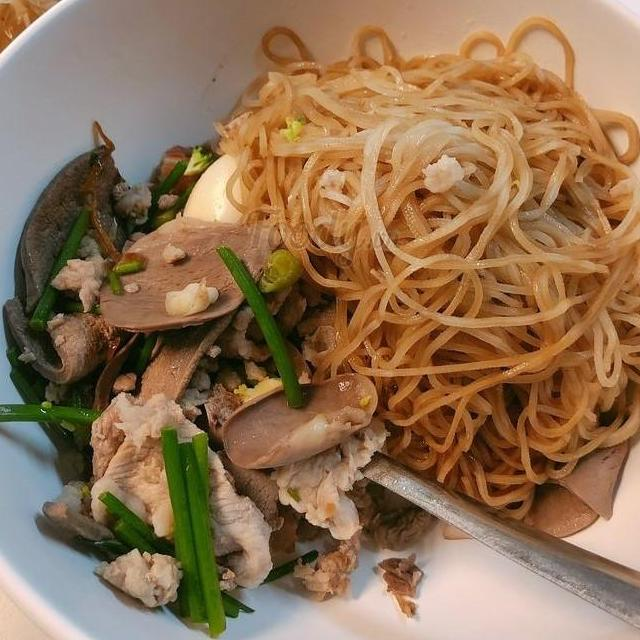gan: (0, 135, 146, 390)
hu tieu: (210, 11, 640, 526)
thit bam: (46, 172, 162, 325), (284, 529, 431, 625), (89, 541, 245, 621), (156, 239, 225, 318)
thit heo: (88, 386, 277, 600), (265, 418, 393, 548)
trung: (179, 144, 262, 237)
